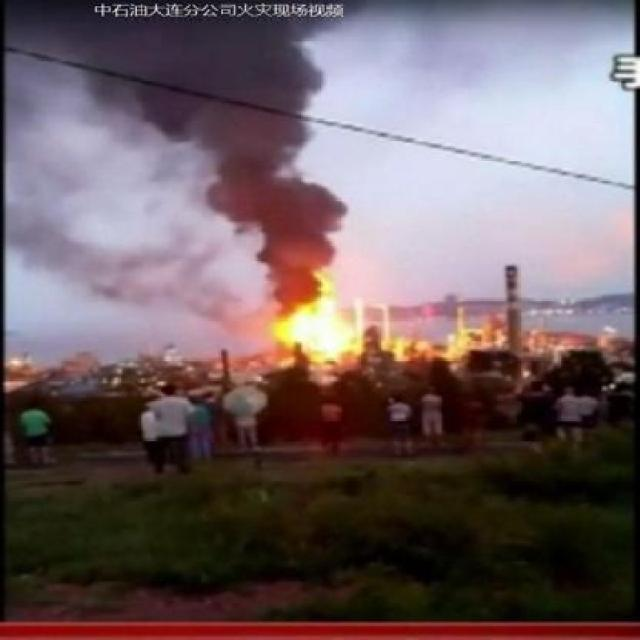Fire: (278, 276, 366, 382)
Smoke: (146, 16, 358, 272)
